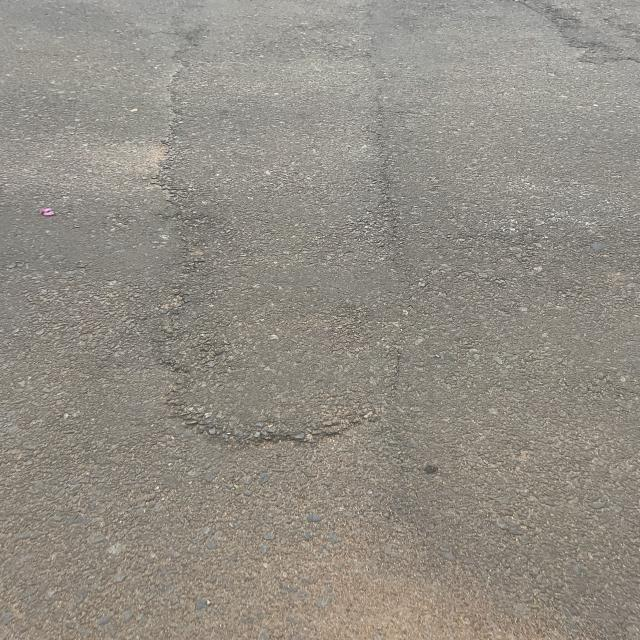D01: (150, 38, 440, 500)
D43: (11, 88, 225, 251)
